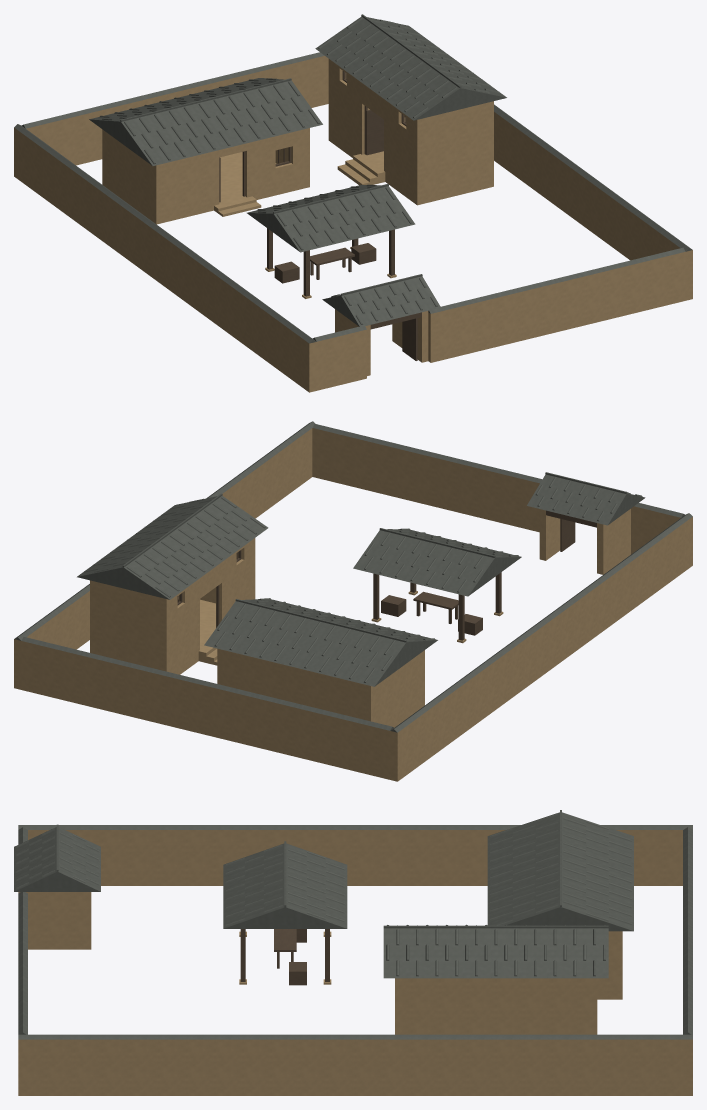
File: court-B2-LOD1.glb
3 views of the same model, one above another, from view 1: azimuth 30°, elevation 25°; view 2: azimuth 150°, elevation 25°; view 3: azimuth 270°, elevation 25° (orthographic). The views are drawn at different scales.
Visible parts, largest first — view 1: court-B2-static_earth, court-B2-static_tile, court-B2-static_timber; view 2: court-B2-static_earth, court-B2-static_tile, court-B2-static_timber; view 3: court-B2-static_earth, court-B2-static_tile, court-B2-static_timber.
Boxes of the visible parts, bbox=[...] form: court-B2-static_earth: bbox=[14, 56, 692, 392]; court-B2-static_tile: bbox=[14, 14, 692, 343]; court-B2-static_timber: bbox=[219, 71, 421, 360]; court-B2-static_earth: bbox=[14, 428, 692, 781]; court-B2-static_tile: bbox=[14, 421, 692, 732]; court-B2-static_timber: bbox=[177, 510, 596, 640]; court-B2-static_earth: bbox=[18, 830, 692, 1095]; court-B2-static_tile: bbox=[14, 810, 692, 1039]; court-B2-static_timber: bbox=[240, 929, 329, 985].
Bounding box in the file's own units: 18 × 5.07 × 24.15.
3 materials, 3 textured.
